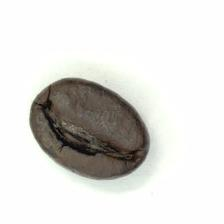NG: (34, 89, 135, 172)
